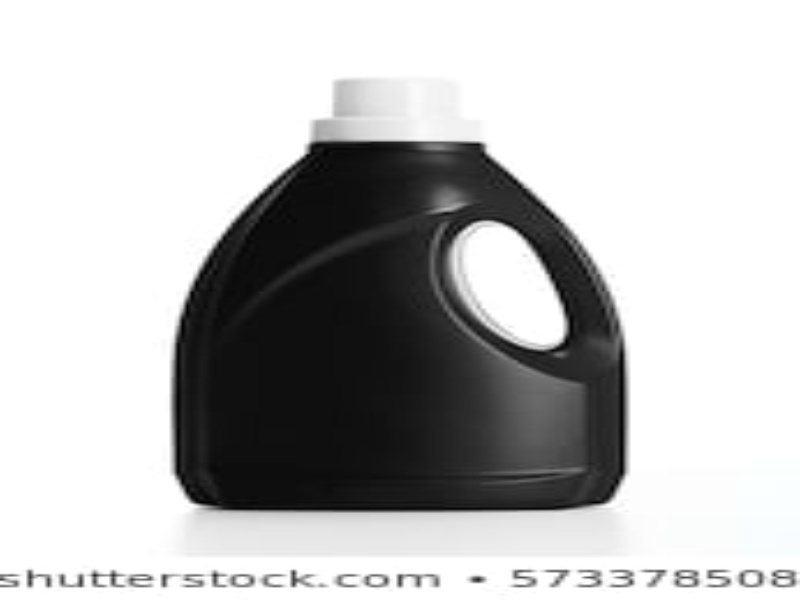bottle-cap: (306, 75, 488, 145)
detergent-bottle: (171, 74, 633, 509)
